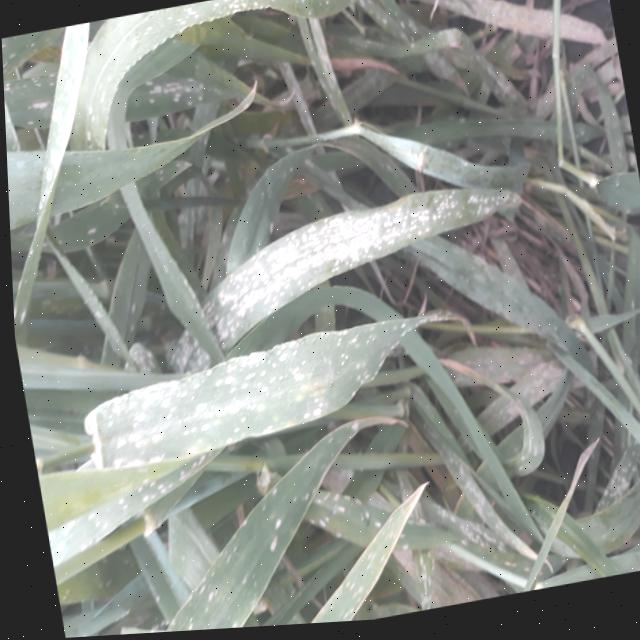powder_mildew: (146, 0, 533, 166), (70, 318, 459, 482), (184, 174, 533, 354), (421, 374, 640, 610), (96, 526, 444, 636), (33, 440, 267, 587), (3, 74, 113, 342), (1, 12, 167, 170), (252, 424, 439, 555), (132, 191, 211, 393), (514, 83, 626, 188), (232, 151, 323, 220), (568, 0, 619, 78), (118, 321, 163, 400), (618, 189, 640, 323)
